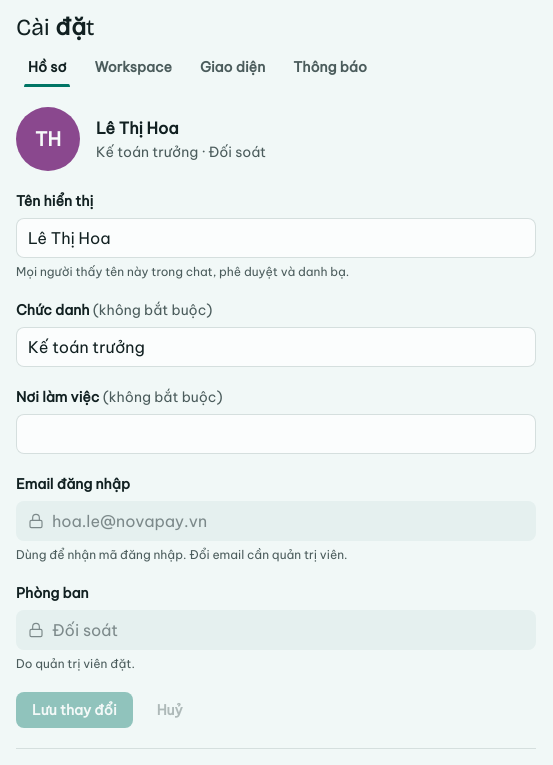
Test: SettingsScreen: Hồ sơ › cannot save until something changes
The image size is (553, 765).
Check: the button "Lưu thay đổi" is disabled, box [16,692,133,728]
Type "!" into the field labelled "Chức danh (không bắt buộc)" at (276, 347), box [28,327,524,367]
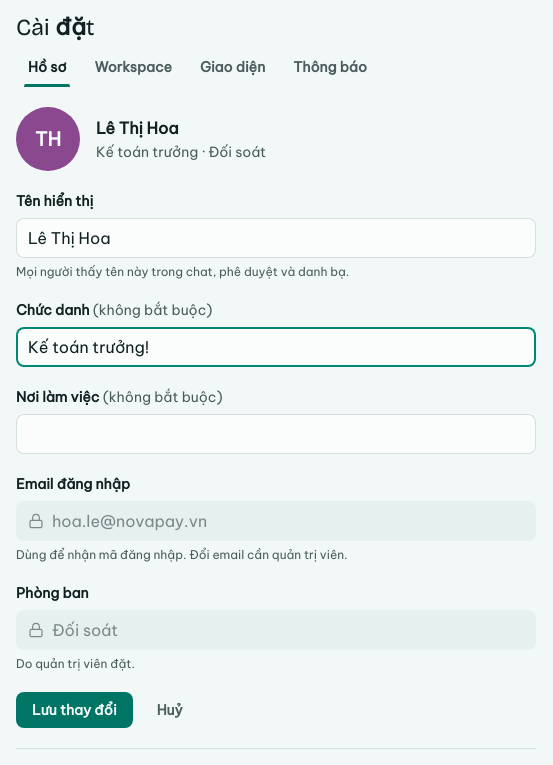
Check: the button "Lưu thay đổi" is enabled, box [16,692,133,728]
